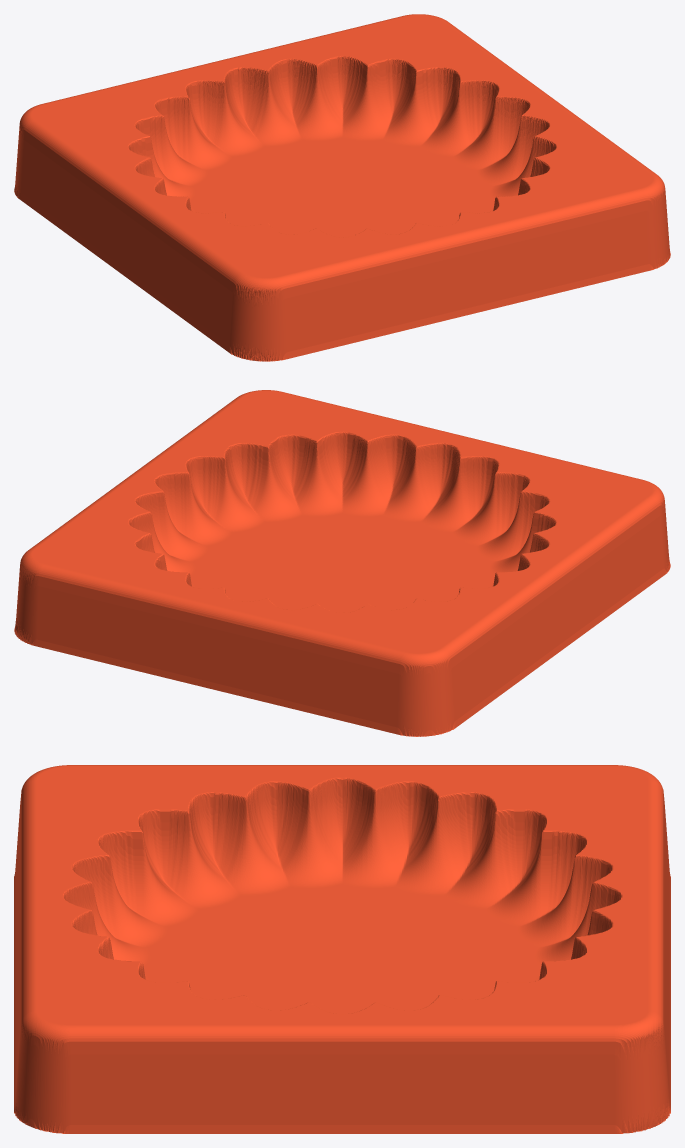
Rendered from mold.glb.
3 views of the same model, one above another, from view 1: azimuth 30°, elevation 25°; view 2: azimuth 150°, elevation 25°; view 3: azimuth 270°, elevation 25° (orthographic). The views are drawn at different scales.
Parts seen in each view (by area): view 1: geometry_0; view 2: geometry_0; view 3: geometry_0.
Boxes of the visible parts, x1,y1,x2,y2 form: geometry_0: (14, 14, 670, 361); geometry_0: (14, 390, 670, 736); geometry_0: (14, 765, 670, 1133).
Bounding box in the file's own units: 0.105 × 0.0175 × 0.105.
